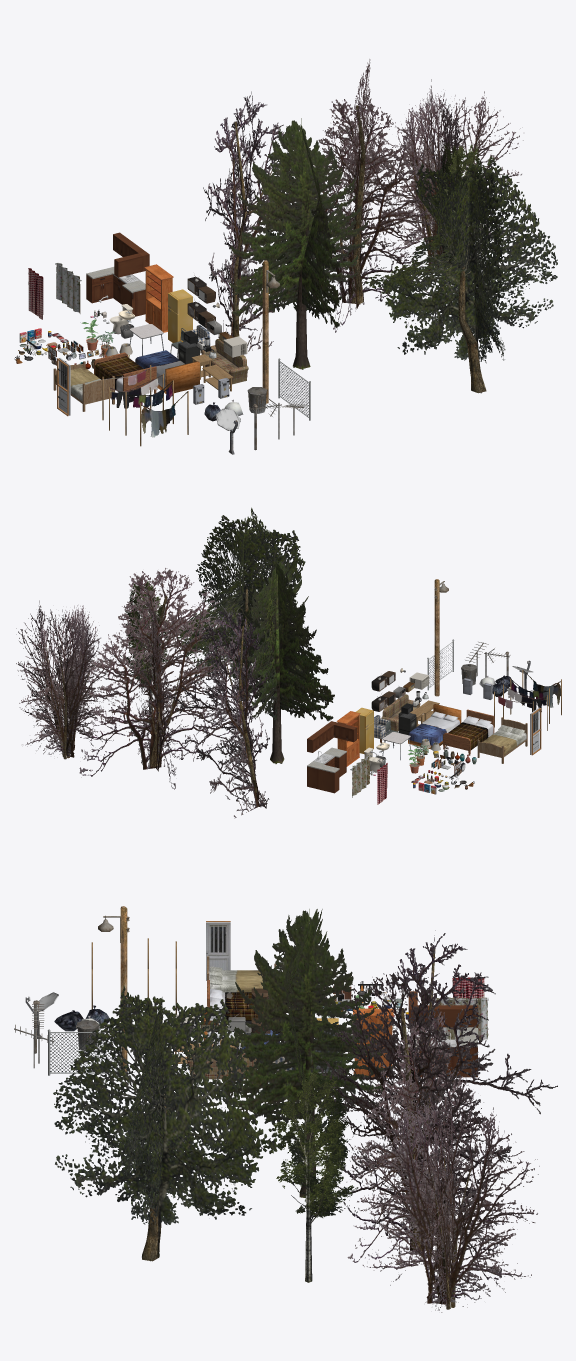
Rendered from trailer_park_props.glb.
3 views of the same model, one above another, from view 1: azimuth 30°, elevation 25°; view 2: azimuth 150°, elevation 25°; view 3: azimuth 270°, elevation 25° (orthographic). The views are drawn at different scales.
Visible parts, largest first — view 1: Trees_05, Trees_04, Trees_01, Trees, Trees_02, kitchen, Bed, Bed_02, Bed_01, Trees_03, Shelf, cupboard (+10 smaller); view 2: Trees_01, Trees_04, Trees_05, Trees_02, Trees, Bed_01, kitchen, Trees_03, Bed, Bed_02, cupboard, lamppost (+5 smaller); view 3: Trees_05, Trees_04, Trees_01, Trees_02, Trees_03, Trees, Bed_02, Fence, Door.006, Bed_01, lamppost, cupboard (+3 smaller).
Boxes of the visible parts, box(x1,y1,x2,y2) form: Trees_05: box(365, 156, 557, 393); Trees_04: box(229, 118, 369, 369); Trees_01: box(279, 59, 439, 332); Trees: box(203, 91, 336, 351); Trees_02: box(378, 79, 523, 273); kitchen: box(86, 267, 145, 316); Bed: box(135, 350, 199, 393); Bed_02: box(53, 361, 114, 411); Bed_01: box(94, 352, 156, 398); Trees_03: box(433, 141, 491, 326); Shelf: box(144, 264, 173, 332); cupboard: box(113, 232, 149, 277); Trees_01: box(79, 568, 242, 789); Trees_04: box(229, 559, 334, 763); Trees_05: box(167, 507, 305, 700); Trees_02: box(16, 600, 118, 759); Trees: box(166, 604, 269, 818); Bed_01: box(443, 709, 494, 755); kitchen: box(307, 747, 346, 793); Trees_03: box(120, 581, 169, 729); Bed: box(408, 704, 461, 748); Bed_02: box(477, 717, 527, 763); cupboard: box(307, 721, 356, 752); lamppost: box(434, 579, 448, 696); Trees_05: box(53, 986, 282, 1261); Trees_04: box(214, 909, 393, 1197); Trees_01: box(315, 971, 503, 1279); Trees_02: box(355, 1093, 539, 1312); Trees_03: box(273, 1072, 358, 1282); Trees: box(388, 930, 557, 1199); Bed_02: box(207, 956, 276, 1005); Fence: box(47, 1029, 121, 1075); Door.006: box(206, 922, 230, 980); Bed_01: box(207, 980, 273, 1020); lamppost: box(98, 906, 129, 1071); cupboard: box(408, 991, 478, 1027).
Bounding box in the file's own units: 26.3 × 12.3 × 19.46.
Materials: 90 (87 with a texture image).
